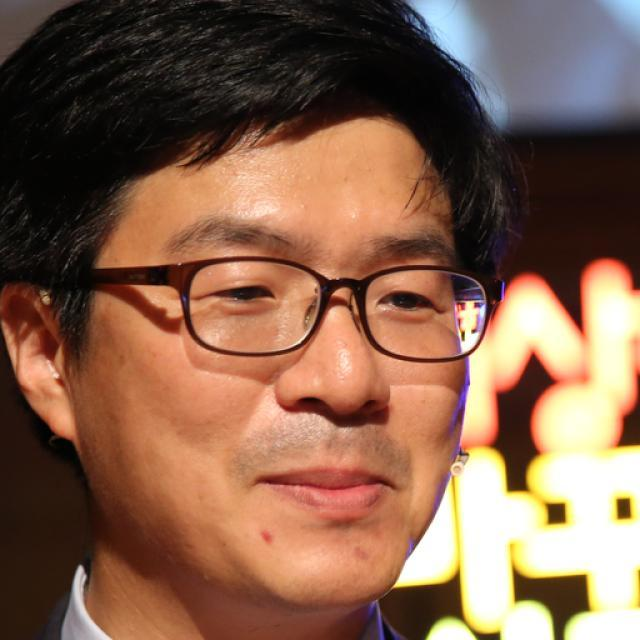neutral: (79, 120, 468, 604)
